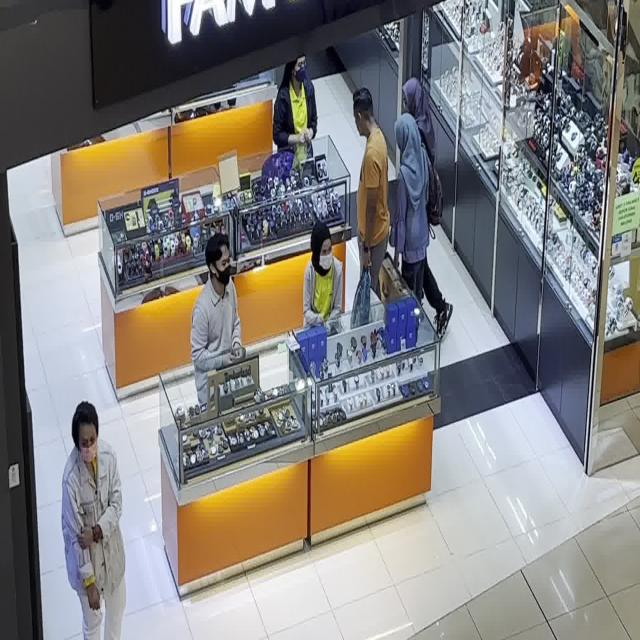Head: (72, 402, 100, 461), (206, 235, 232, 287), (354, 90, 375, 137), (314, 222, 333, 272), (395, 117, 420, 151), (403, 81, 425, 115), (292, 56, 307, 85)
